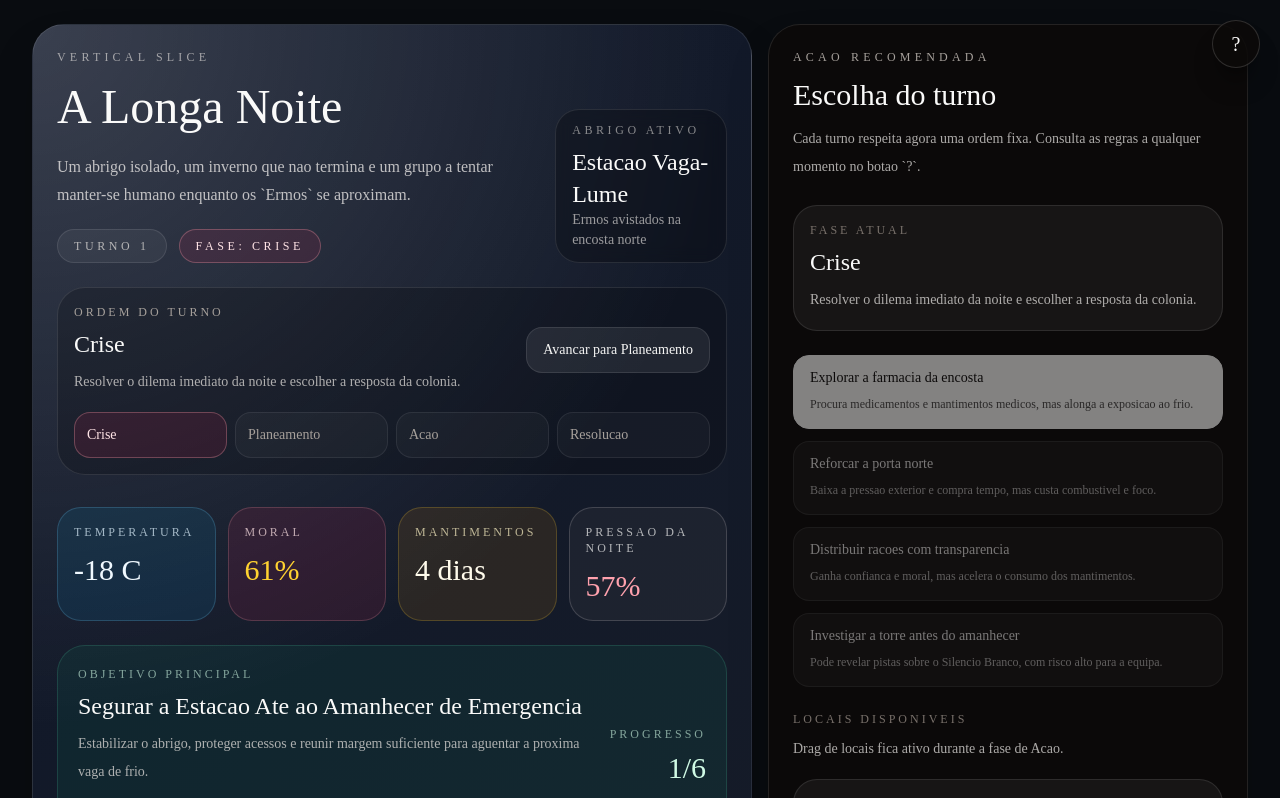
Test: VerticalSliceDashboard › opens and closes the rules panel
Click the button named "Abrir regras".
click(1236, 44)  # box [1212, 20, 1260, 68]
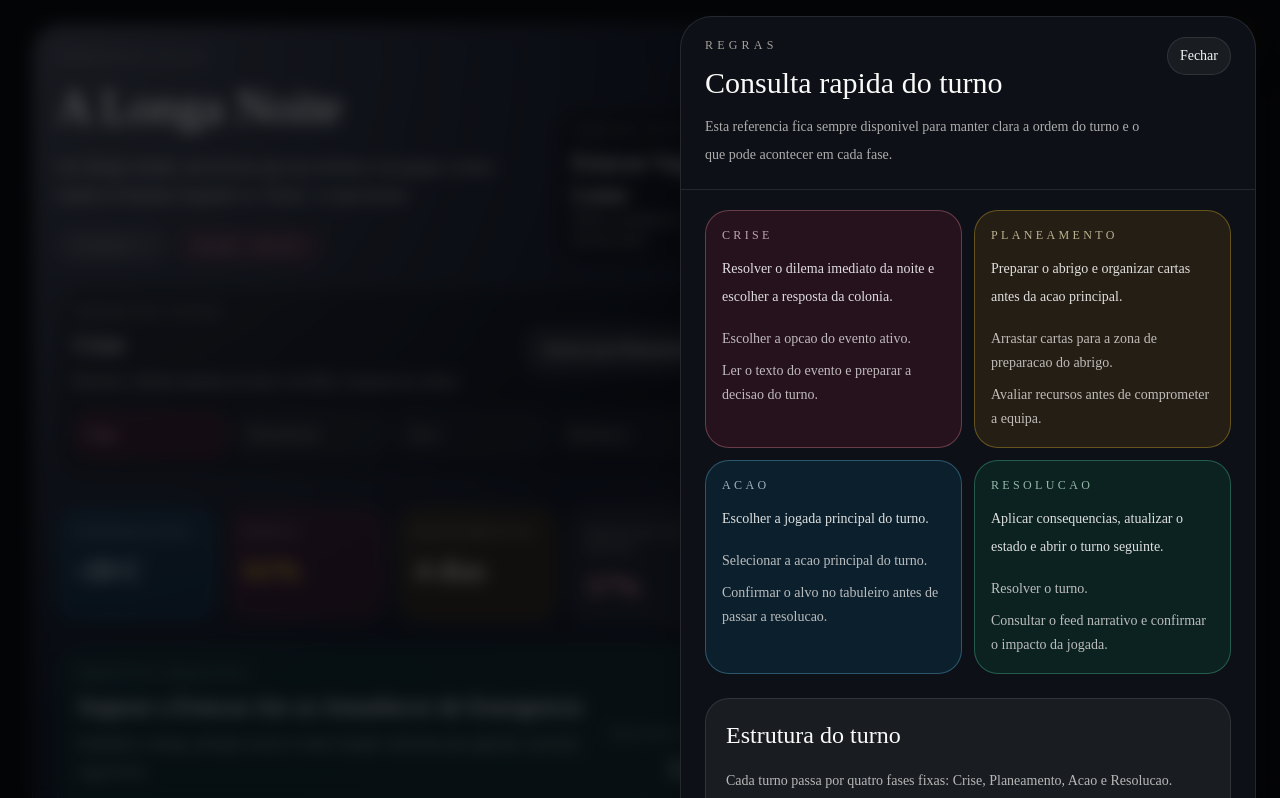
Check: the heading "Consulta rapida do turno" is shown, box [705, 66, 1002, 99]
Click the button with aria-label "Fechar regras".
click(1199, 56)  # box [1167, 37, 1231, 75]
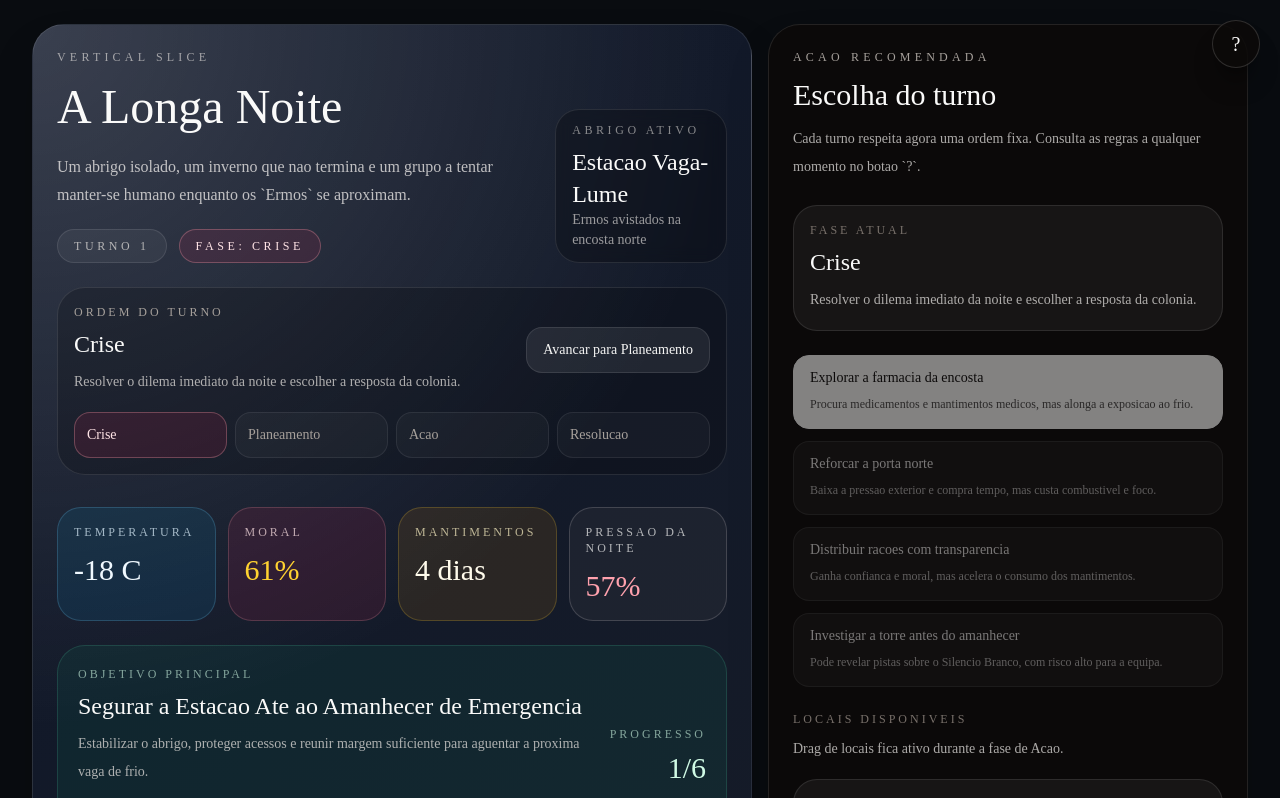
Check: the heading "Consulta rapida do turno" is gone
